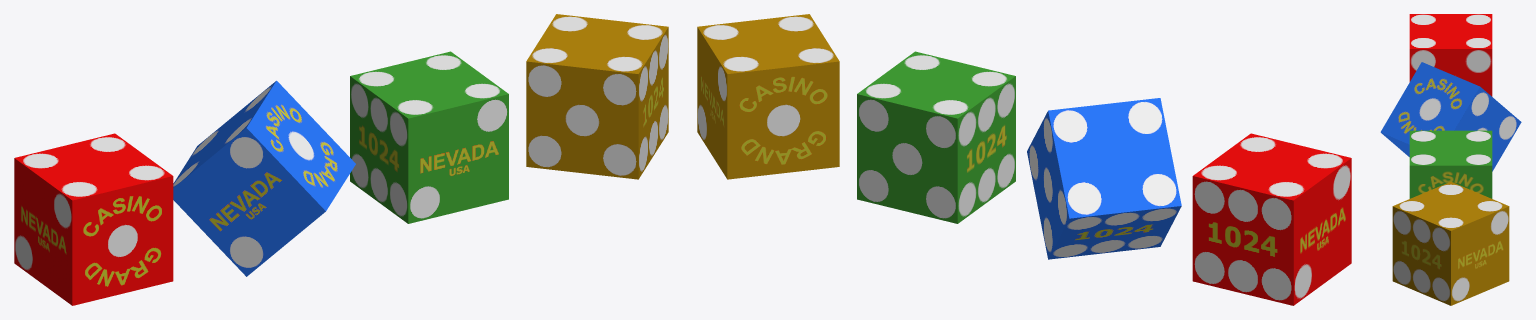
The model's file is Sketchfab_2018_08_21_16_29_02.fbx.
The picture shows the model from 3 angles, left to right: view 1: azimuth 30°, elevation 25°; view 2: azimuth 150°, elevation 25°; view 3: azimuth 270°, elevation 25°; orthographic projection. The views are drawn at different scales.
Parts seen in each view (by area): view 1: LP_cube, LP_cube.002, LP_cube.003, LP_cube.001; view 2: LP_cube, LP_cube.002, LP_cube.003, LP_cube.001; view 3: LP_cube.003, LP_cube.001, LP_cube, LP_cube.002.
Part boxes in pixels (x1,y1,x2,y2): LP_cube: [14, 133, 173, 305]; LP_cube.002: [350, 51, 508, 223]; LP_cube.003: [526, 14, 668, 179]; LP_cube.001: [173, 80, 355, 276]; LP_cube: [1192, 133, 1351, 305]; LP_cube.002: [857, 51, 1015, 223]; LP_cube.003: [697, 14, 839, 179]; LP_cube.001: [1027, 98, 1181, 259]; LP_cube.003: [1392, 181, 1509, 305]; LP_cube.001: [1380, 62, 1521, 171]; LP_cube: [1409, 14, 1492, 96]; LP_cube.002: [1409, 130, 1492, 198].
Bounding box in the file's own units: 372 × 84.85 × 102.
